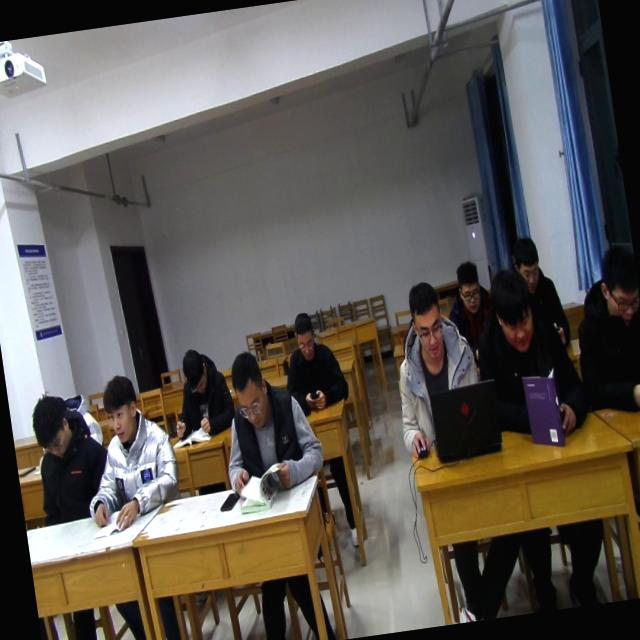down: (486, 262, 540, 360), (588, 233, 640, 330), (223, 342, 274, 431), (402, 276, 452, 365), (26, 388, 75, 464), (449, 255, 487, 318), (287, 304, 321, 365), (176, 342, 212, 398), (508, 230, 541, 286)
lookup: (97, 368, 145, 448)
sit: (463, 262, 588, 444), (382, 276, 489, 462), (70, 372, 185, 536), (211, 346, 327, 508), (563, 239, 640, 420), (21, 386, 112, 528), (278, 303, 352, 414), (162, 340, 238, 440), (507, 232, 568, 322), (441, 250, 498, 334)
